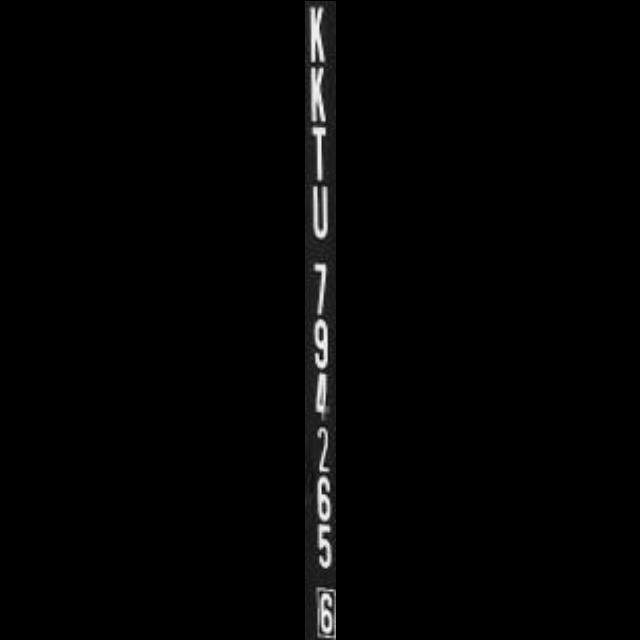2: (304, 420, 336, 474)
4: (304, 370, 336, 420)
5: (304, 520, 336, 574)
6: (304, 475, 336, 519), (315, 582, 335, 640)
7: (304, 262, 336, 318)
9: (304, 314, 336, 370)
k: (304, 61, 334, 123), (304, 0, 332, 60)
t: (304, 121, 336, 179)
u: (304, 176, 336, 238)
